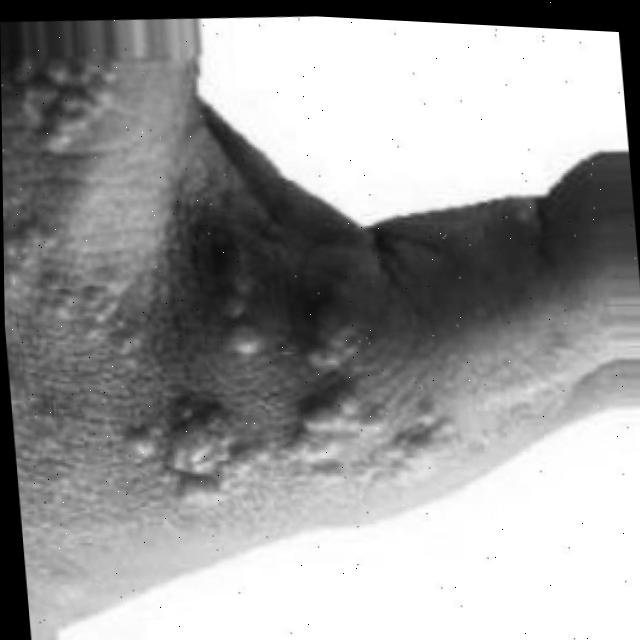Shingles: (123, 355, 473, 534), (3, 171, 161, 384), (11, 43, 137, 161), (203, 234, 276, 361), (296, 275, 367, 377)
